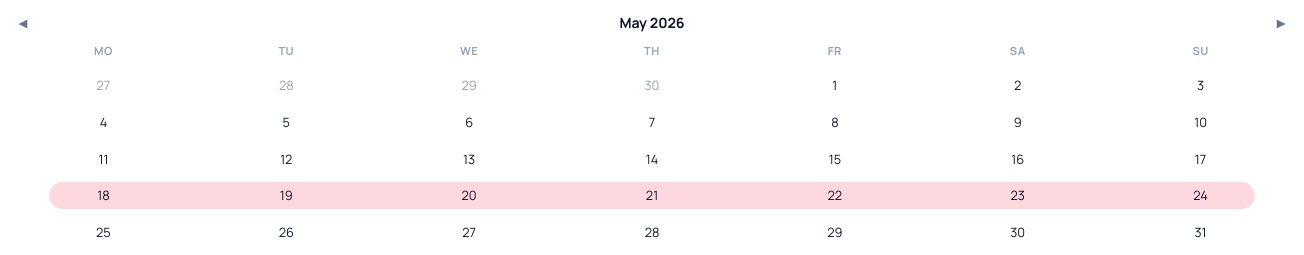
it: PlanSpanCalendar — month navigation › navigates to the next month when ▶ is clicked
Check: the text "May 2026" is shown, box [619,13,685,32]
Click the button named "next month". click: (1281, 23)
box: [1270,14,1292,32]
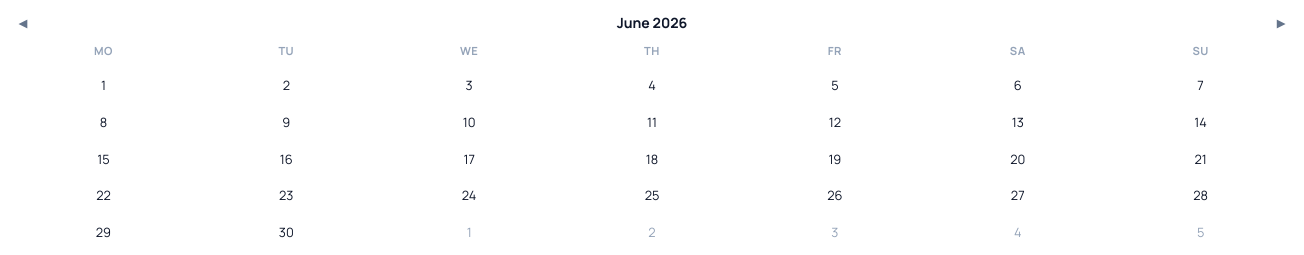
Check: the text "June 2026" is shown, box [617,13,687,32]
